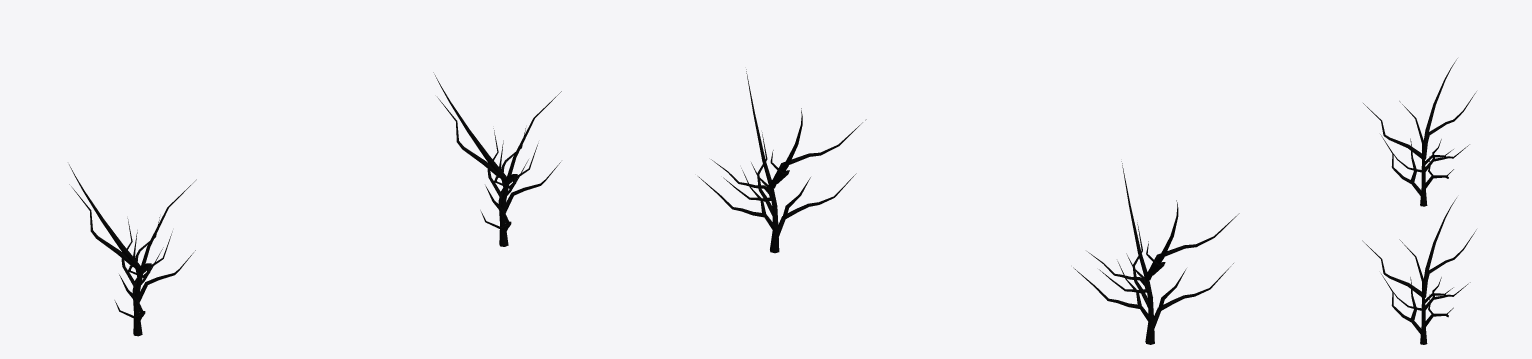
File: test-tree1.glb
3 renders of one model, left to right at view 1: azimuth 30°, elevation 25°; view 2: azimuth 150°, elevation 25°; view 3: azimuth 270°, elevation 25°, orthographic. The views are drawn at different scales.
Visible parts, largest first — view 1: trunk.002, trunk.009; view 2: trunk.009, trunk.002; view 3: trunk.009, trunk.002.
Boxes of the visible parts, box(x1,y1,x2,y2) form: trunk.002: box(69, 164, 196, 336); trunk.009: box(433, 72, 561, 246); trunk.009: box(698, 69, 866, 253); trunk.002: box(1073, 161, 1239, 344); trunk.009: box(1362, 198, 1476, 344); trunk.002: box(1363, 58, 1476, 206).
Size of the model in its own units: 116 by 43.56 by 45.22.
Materials: 2 (2 with a texture image).
